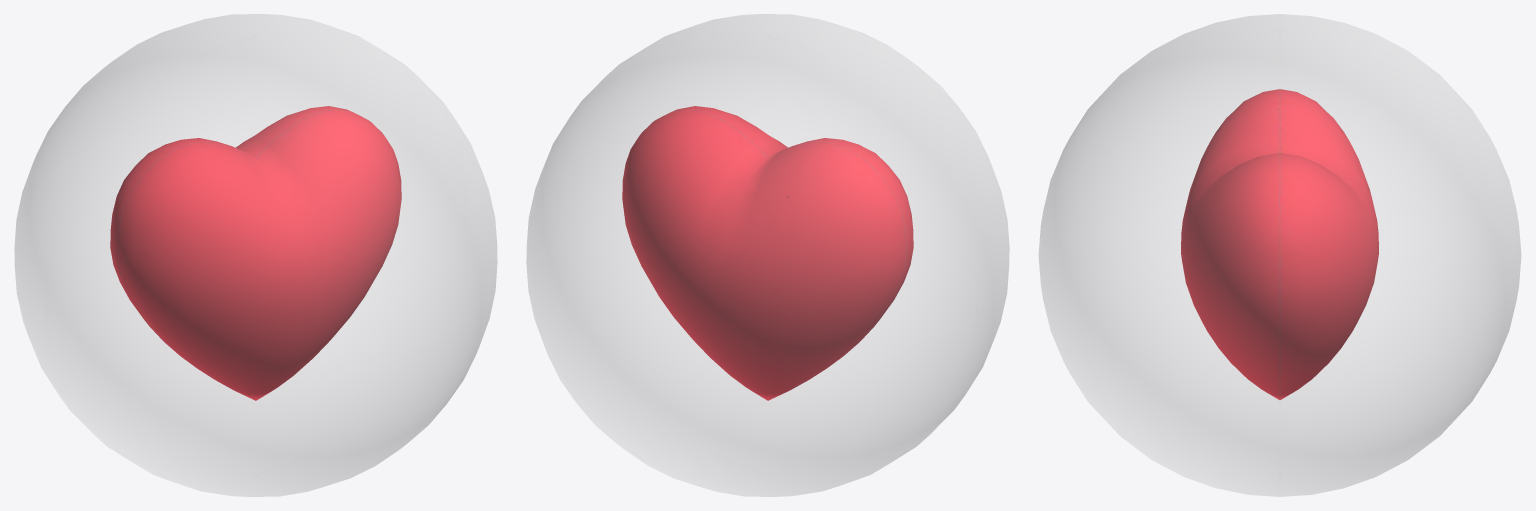
The model's file is heart.glb.
3 views of the same model, side by side, from view 1: azimuth 30°, elevation 25°; view 2: azimuth 150°, elevation 25°; view 3: azimuth 270°, elevation 25° (orthographic).
Parts seen in each view (by area): view 1: Marble_Marble_0, Heart_Heart_0; view 2: Marble_Marble_0, Heart_Heart_0; view 3: Marble_Marble_0, Heart_Heart_0.
Part boxes in pixels (x1,y1,x2,y2): Marble_Marble_0: (14, 14, 497, 496); Heart_Heart_0: (110, 106, 401, 400); Marble_Marble_0: (526, 14, 1009, 496); Heart_Heart_0: (622, 106, 913, 400); Marble_Marble_0: (1038, 14, 1521, 496); Heart_Heart_0: (1181, 89, 1378, 399).
Size of the model in its own units: 200 by 200 by 200.
Materials: 2 (2 with a texture image).
